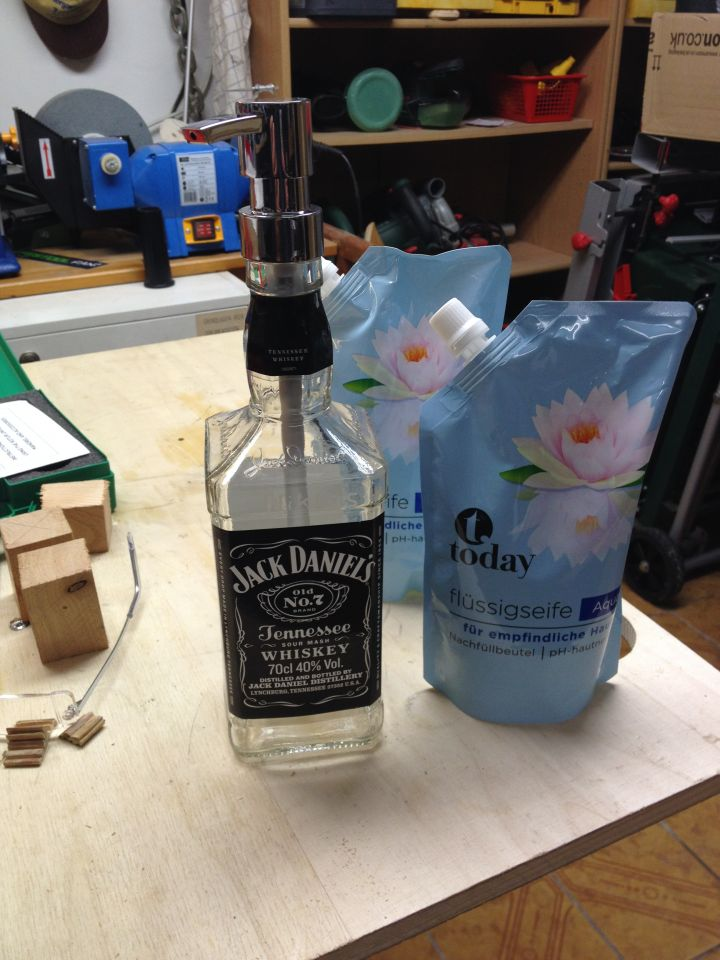Jack Daniel: (182, 190, 414, 785)
